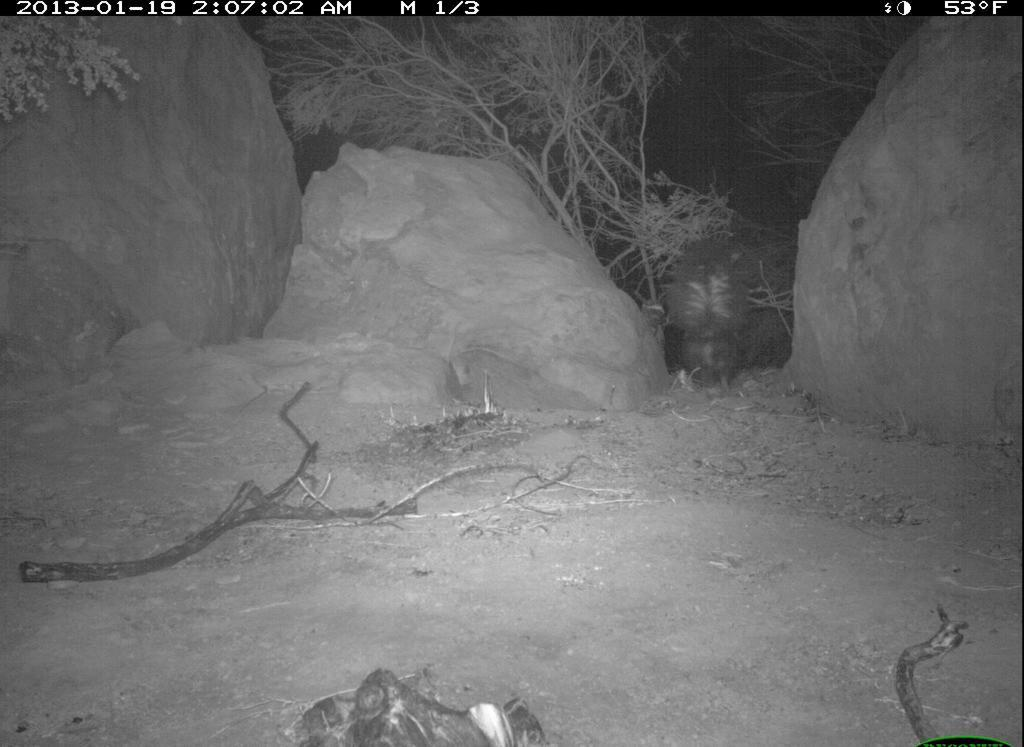skunk: (657, 235, 745, 401)
